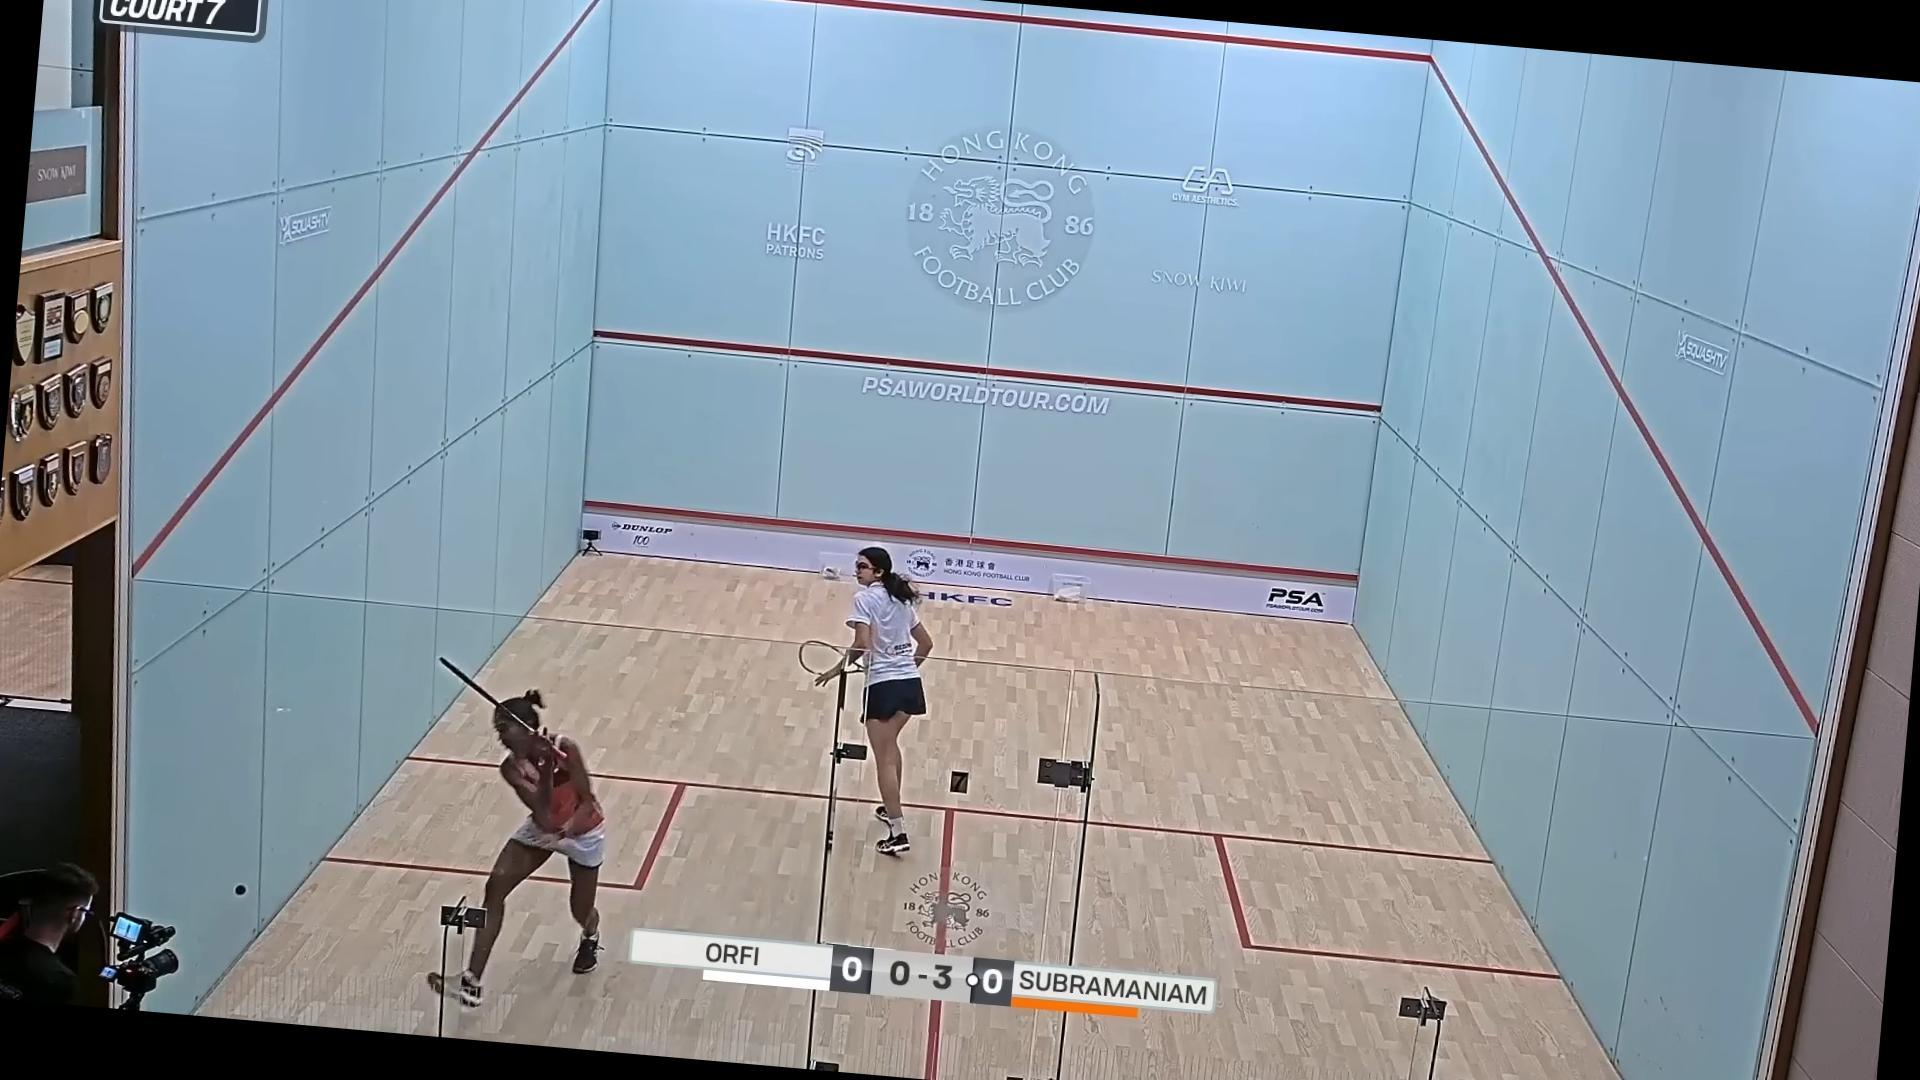Squash-Ball: (223, 872, 260, 910)
